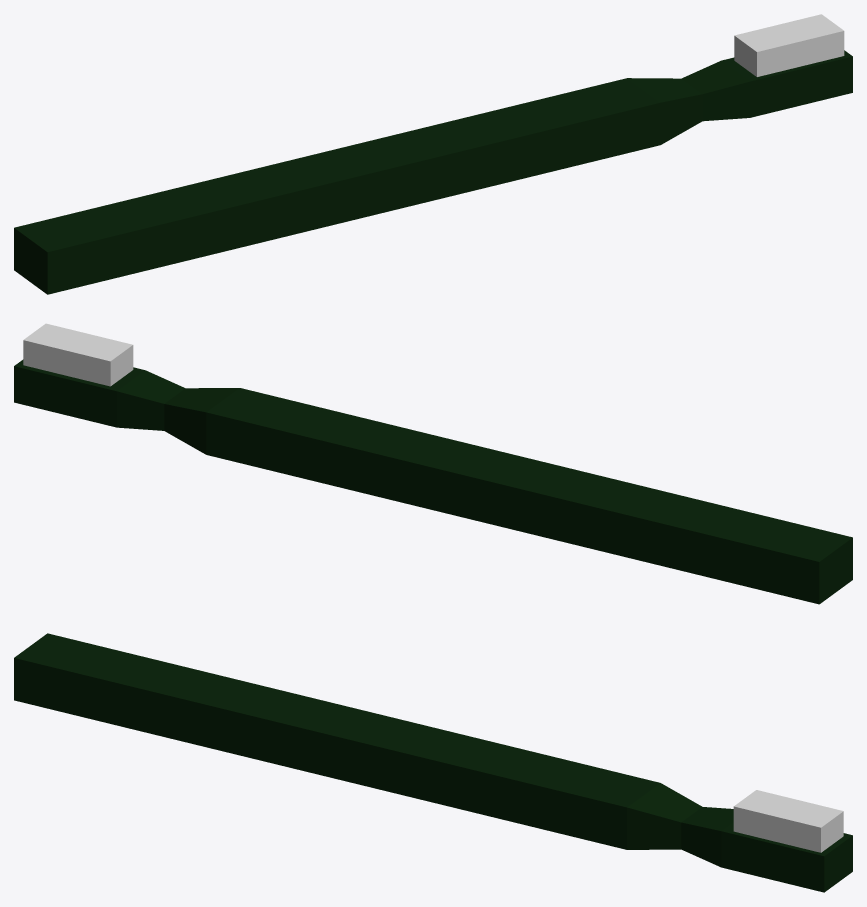
The model's file is toothBrush.dae.
3 views of the same model, one above another, from view 1: azimuth 30°, elevation 25°; view 2: azimuth 150°, elevation 25°; view 3: azimuth 330°, elevation 25° (orthographic).
Parts seen in each view (by area): view 1: toothBrush; view 2: toothBrush; view 3: toothBrush.
Boxes of the visible parts, bbox=[...] form: toothBrush: bbox=[14, 14, 852, 294]; toothBrush: bbox=[14, 323, 852, 604]; toothBrush: bbox=[14, 633, 852, 892].
Size of the model in its own units: 5.09 by 0.3883 by 0.3658.
